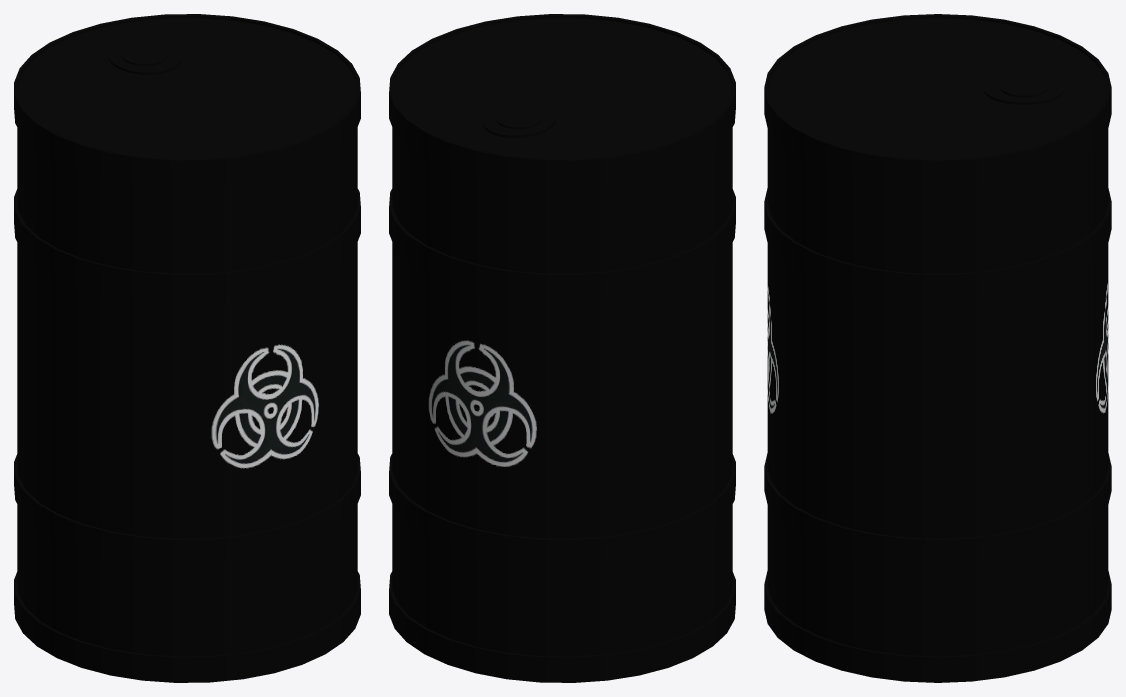
Rendered from barril.fbx.
3 renders of one model, left to right at view 1: azimuth 30°, elevation 25°; view 2: azimuth 150°, elevation 25°; view 3: azimuth 270°, elevation 25°, orthographic.
Visible parts, largest first — view 1: barril toxico.003; view 2: barril toxico.003; view 3: barril toxico.003.
Boxes of the visible parts, x1,y1,x2,y2 form: barril toxico.003: [14, 14, 360, 682]; barril toxico.003: [389, 14, 735, 682]; barril toxico.003: [764, 14, 1111, 682].
Size of the model in its own units: 139 by 232 by 139.
